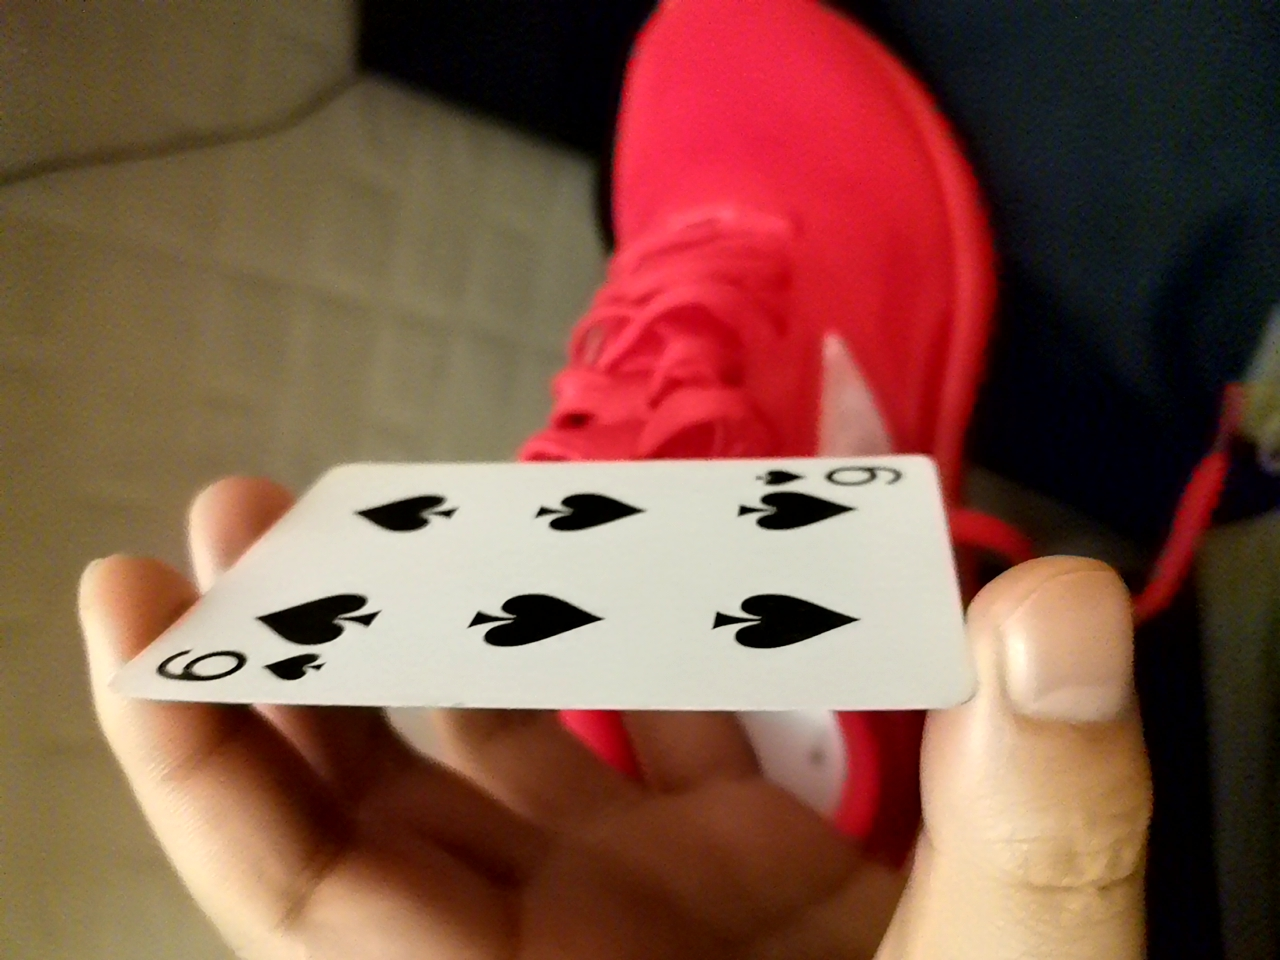ht 6: (87, 438, 963, 716)
